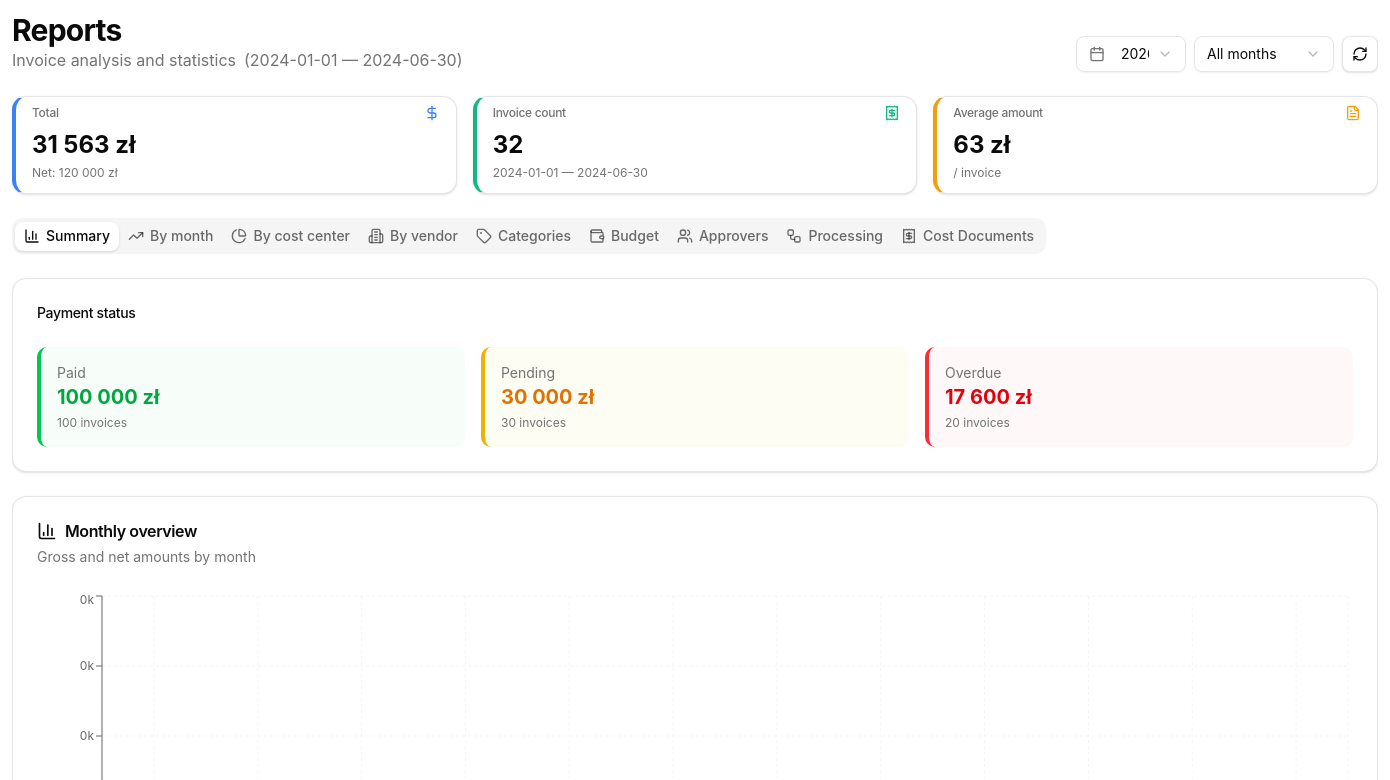
Test: ReportsPage › switches to cost center tab and shows pie chart
Click the tab "By cost center" at (291, 236), box [222,222,359,250]
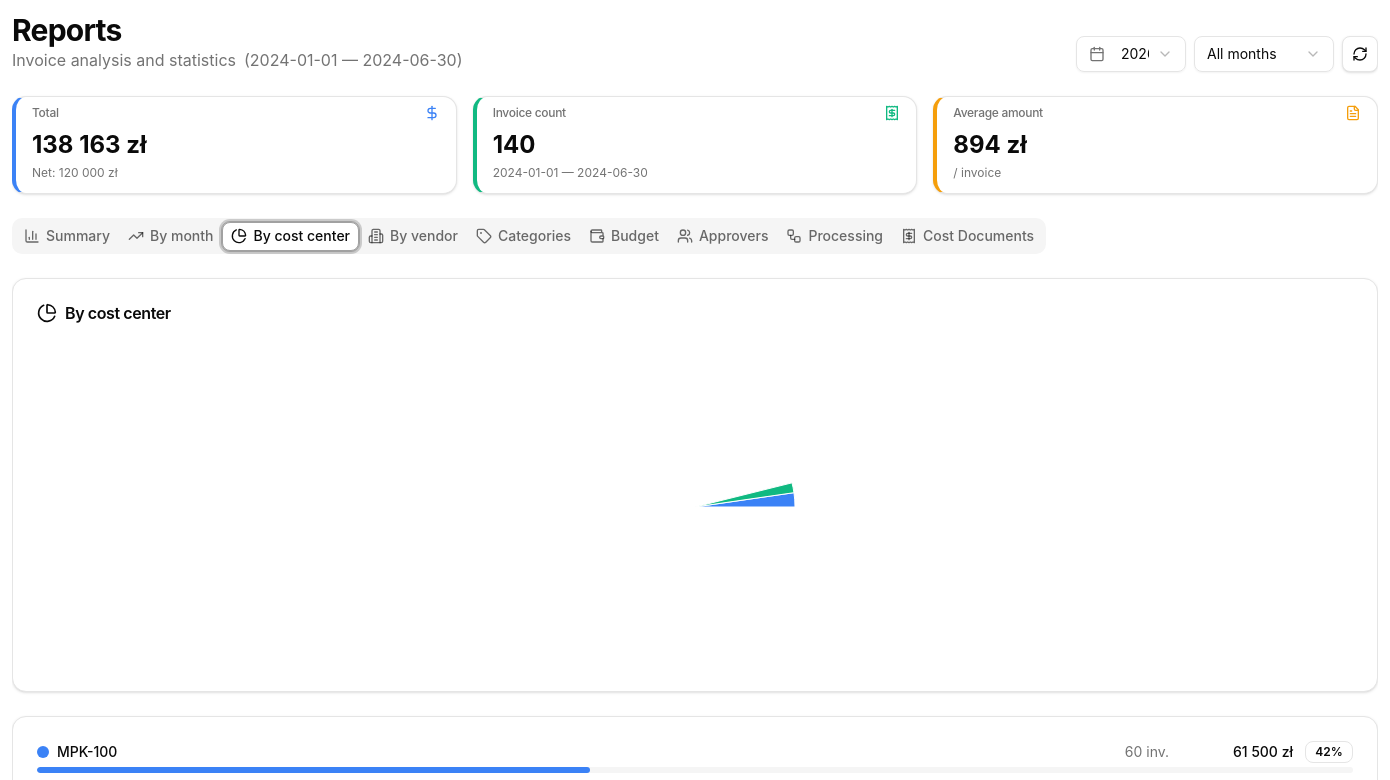
Now the element with test id "reports-pie-chart" is shown, box [37,347,1353,667]
